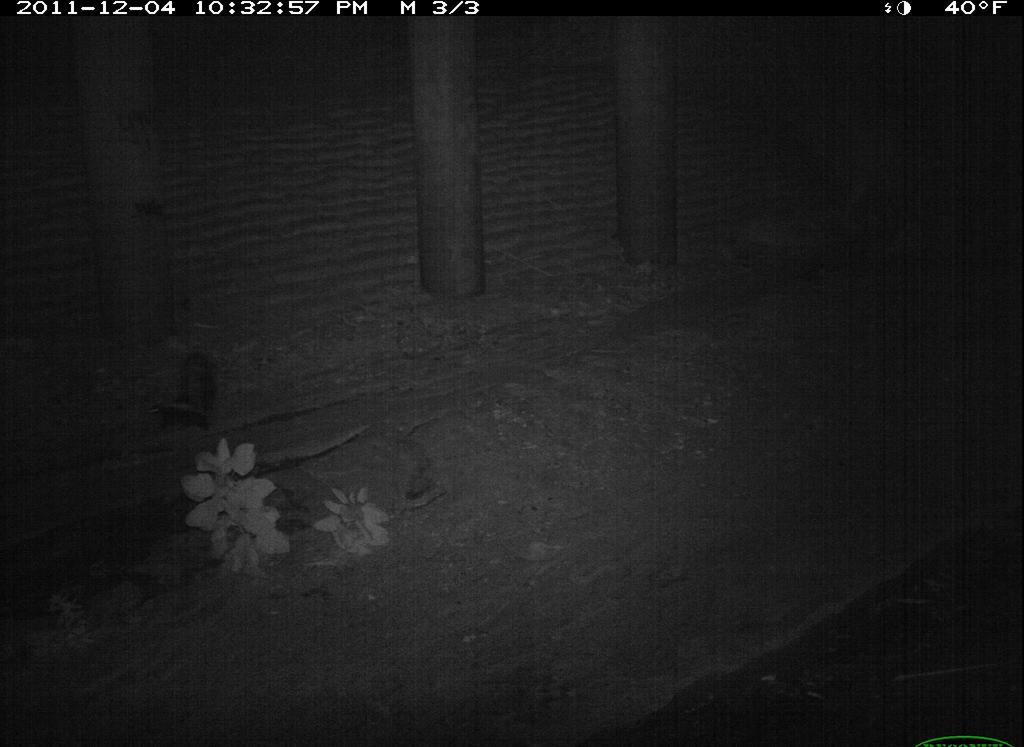skunk: (275, 685, 449, 747)
